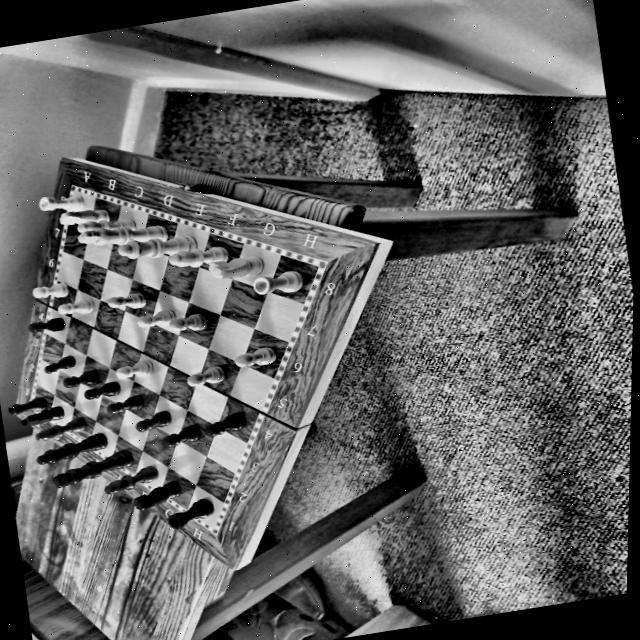black-bishop: (103, 461, 161, 495), (34, 414, 87, 442)
black-king: (49, 446, 138, 487)
black-knight: (131, 479, 183, 510), (18, 403, 69, 428)
black-pawn: (203, 409, 246, 438), (161, 424, 200, 448), (133, 408, 172, 431), (105, 392, 145, 414), (60, 367, 99, 389), (83, 379, 122, 400), (27, 314, 67, 334), (41, 352, 77, 374)
black-queen: (34, 428, 109, 467)
black-rook: (166, 495, 219, 532), (4, 394, 48, 416)
white-bishop: (168, 242, 229, 268), (75, 213, 139, 237)
white-king: (77, 220, 167, 248)
white-knight: (207, 251, 267, 280), (56, 202, 112, 227)
white-pawn: (182, 359, 230, 390), (232, 341, 281, 370), (166, 310, 209, 334), (29, 278, 72, 302), (105, 290, 149, 312), (115, 356, 153, 379), (55, 296, 96, 316), (136, 307, 175, 328)
white-queen: (115, 230, 198, 264)
white-rook: (248, 266, 307, 298), (37, 188, 85, 214)
